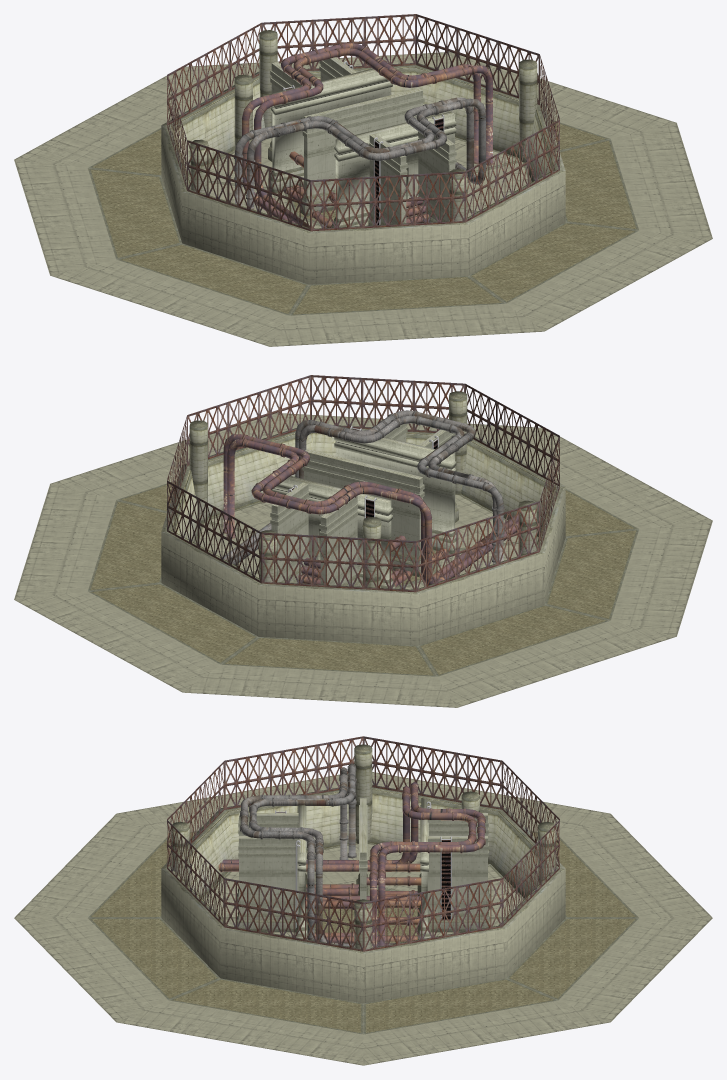
Rendered from BASKET_DUVAR.fbx.
3 renders of one model, top to bottom at view 1: azimuth 30°, elevation 25°; view 2: azimuth 150°, elevation 25°; view 3: azimuth 270°, elevation 25°, orthographic. The views are drawn at different scales.
Parts seen in each view (by area): view 1: Basket_Duvar CONCRETE, Basket_Duvar METAL; view 2: Basket_Duvar CONCRETE, Basket_Duvar METAL; view 3: Basket_Duvar CONCRETE, Basket_Duvar METAL.
Boxes of the visible parts, x1,y1,x2,y2 form: Basket_Duvar CONCRETE: (14,30,712,346); Basket_Duvar METAL: (167,14,559,231); Basket_Duvar CONCRETE: (14,391,712,707); Basket_Duvar METAL: (167,375,559,592); Basket_Duvar CONCRETE: (14,744,712,1065); Basket_Duvar METAL: (167,736,559,951).
Size of the model in its own units: 103 by 16.62 by 103.
